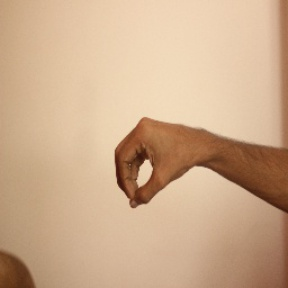O: (111, 112, 202, 210)
